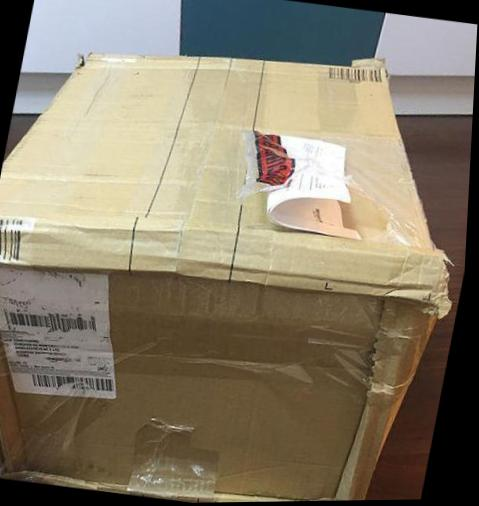cardboard: (0, 13, 478, 506)
